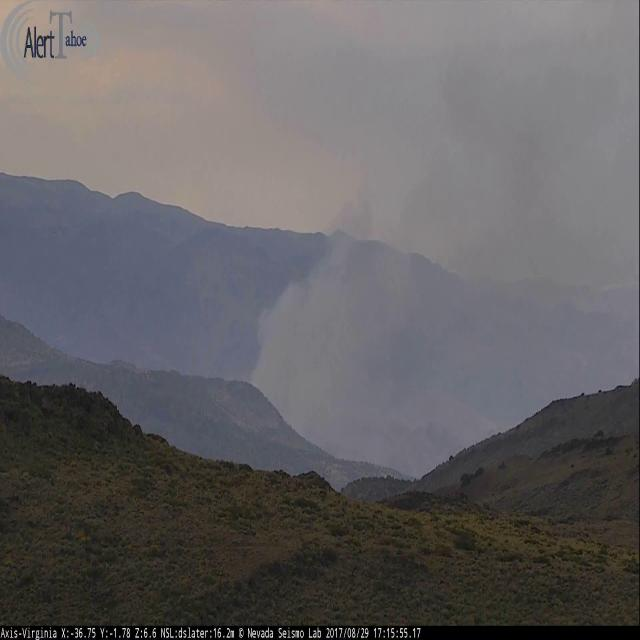smoke: (250, 0, 640, 496)
